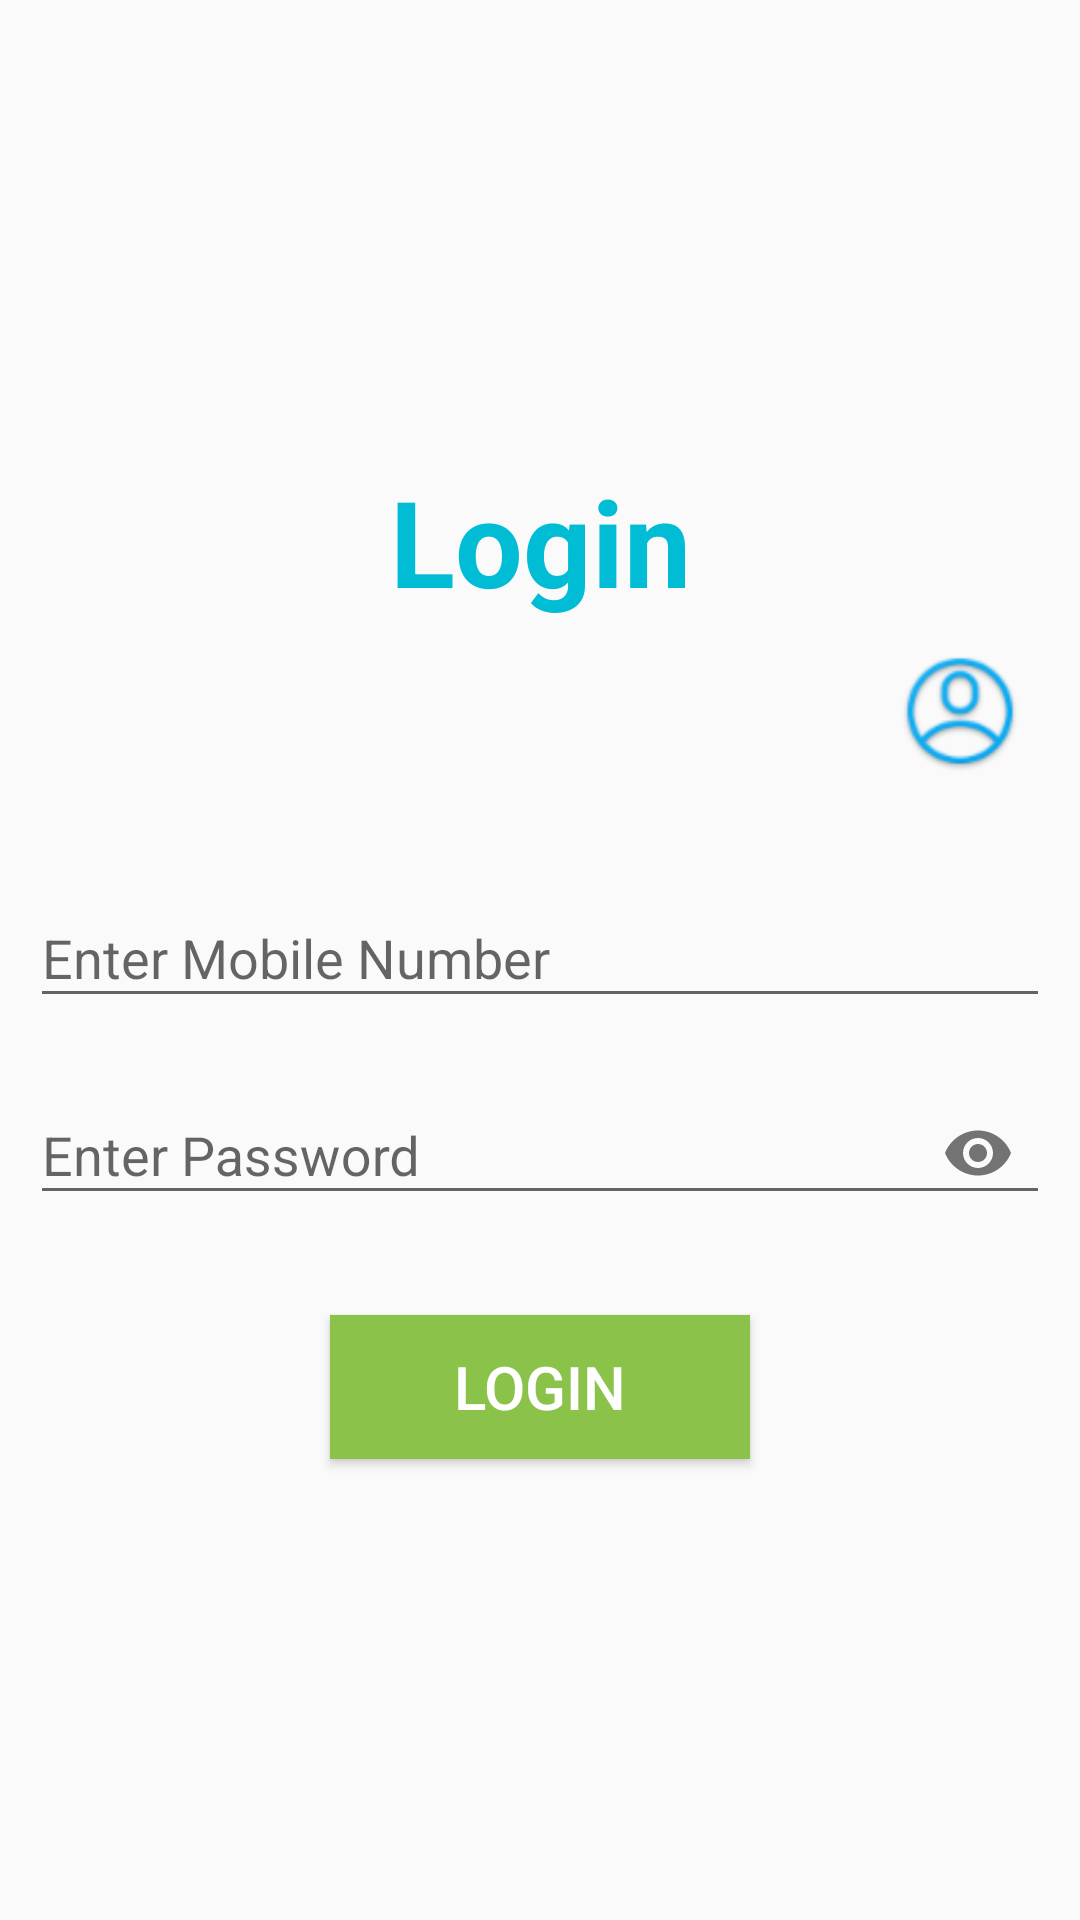

Screen size 1080px×1920px. Icon name, then its box in pixels as bbox=(x1, y1, x2, y2):
account: bbox=(906, 657, 1014, 767)
